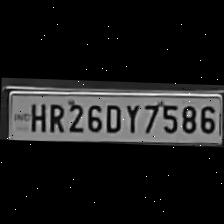2: (64, 99, 84, 134)
5: (158, 100, 178, 134)
6: (84, 100, 104, 132), (195, 102, 215, 134)
7: (138, 100, 158, 135)
8: (178, 101, 196, 134)
D: (101, 100, 123, 134)
H: (26, 99, 46, 134)
R: (46, 100, 64, 134)
Y: (122, 100, 140, 134)
